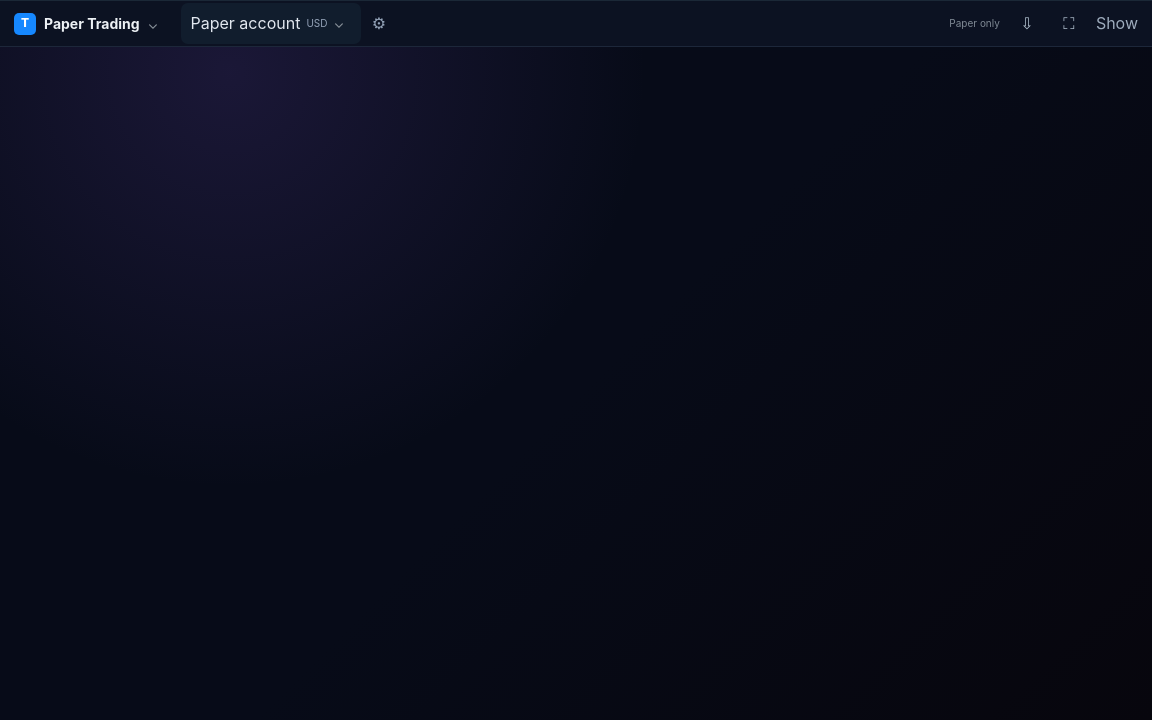
Test: TradingTerminalDock › shows the rejection reason in an order status tooltip
Click the button with aria-label "Restore paper trading panel" at (1117, 24), box x1=1096 y1=11 x2=1138 y2=36
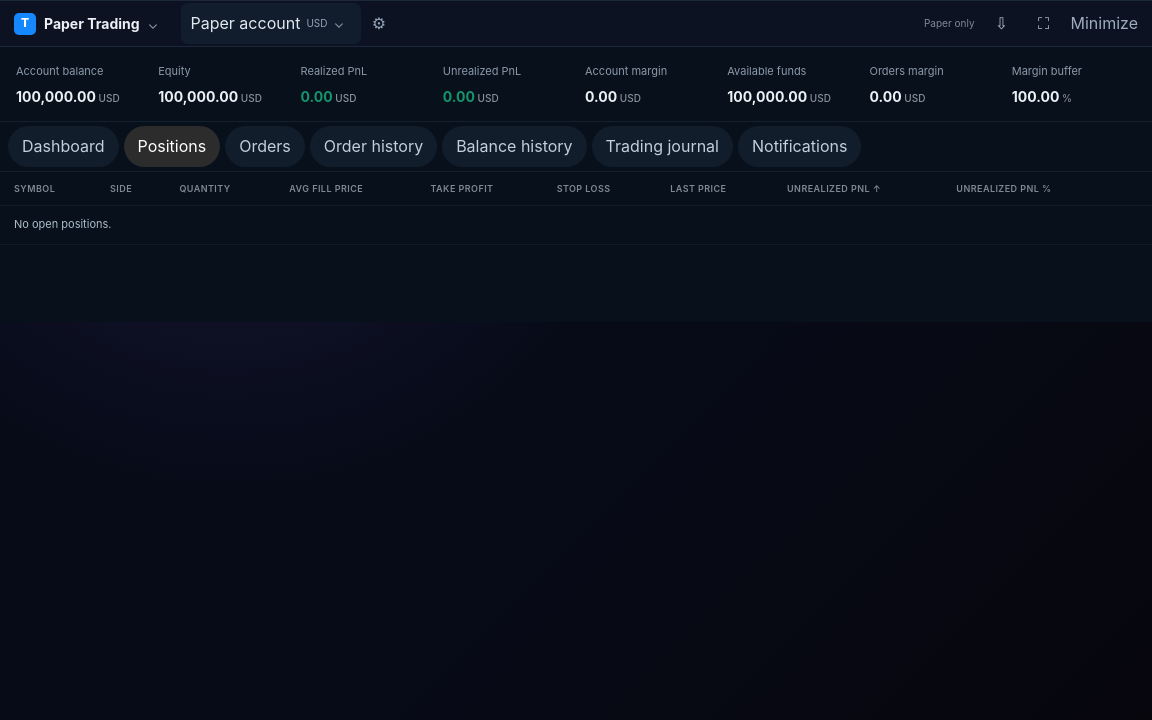
Click the tab "Orders" at (265, 146), box x1=225 y1=126 x2=305 y2=166
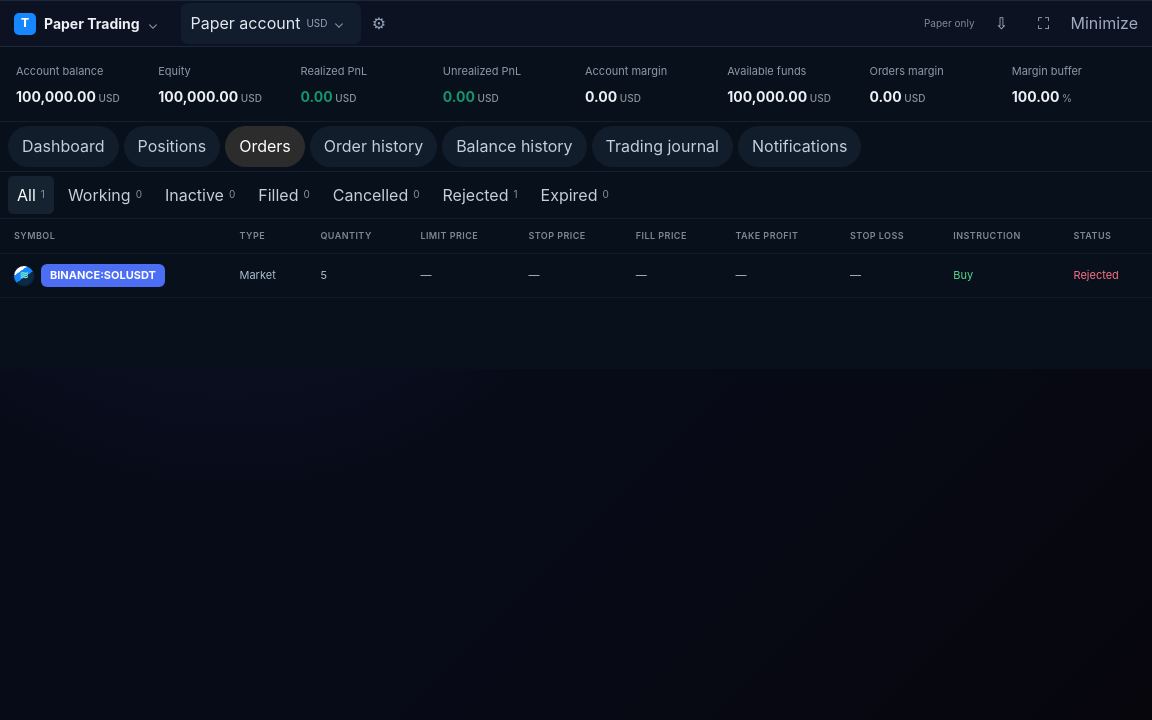
Expected: the element titled "Insufficient available paper cash at the fill price." is shown, x1=1074 y1=267 x2=1119 y2=284
